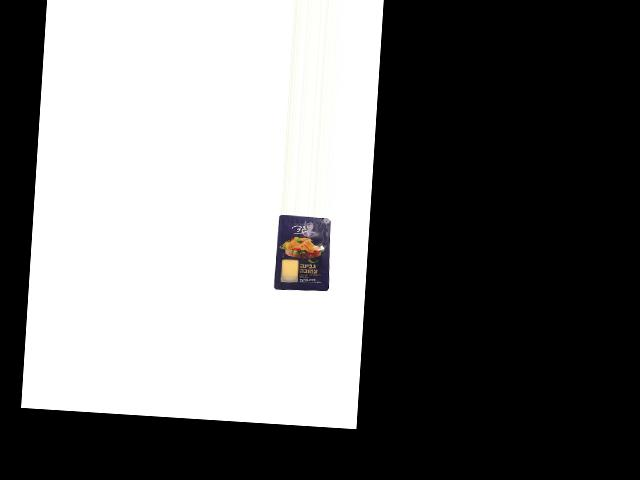cheese: (274, 213, 335, 293)
